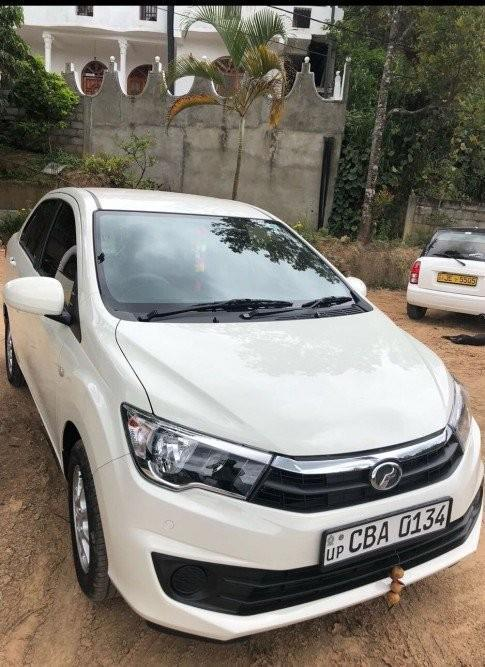license-plate: (319, 500, 455, 564)
